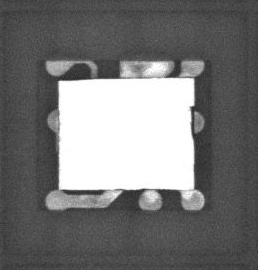DIE_BROKEN: (187, 103, 195, 138), (58, 77, 95, 82)
